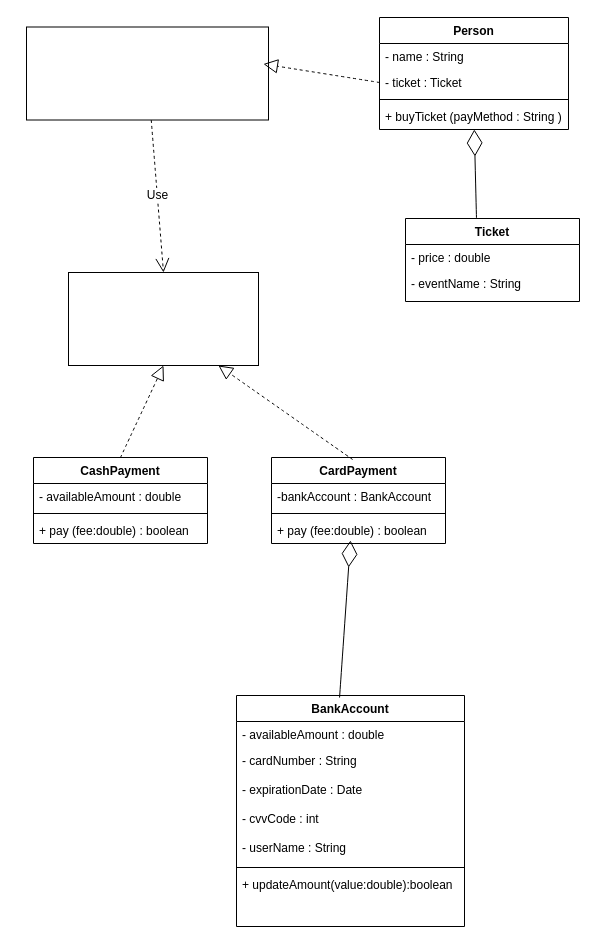
This 597x947 diagram has some shape labels left out. The shapes that lost their labels are listed below. From the top down, each one's centre as x and y in pixels, then its label:
At [147,73]: "<<Interface>> BuyTicket + buyTicket (payMethod : String )".
At [163,319]: "<<Interface>> PaymentMethod + pay(fee : double) : boolean".
